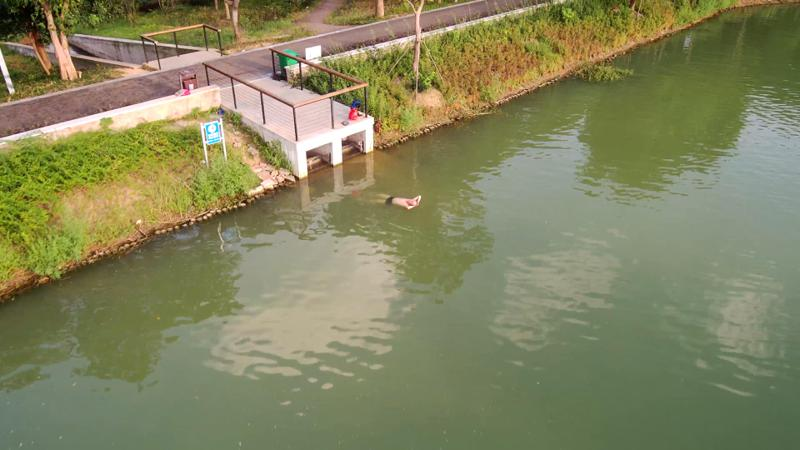swimmers: (369, 193, 422, 210)
